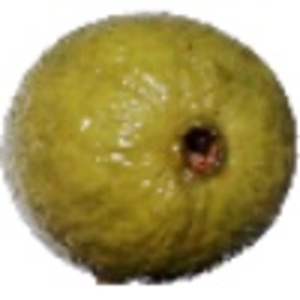goiaba: (5, 13, 297, 276)
